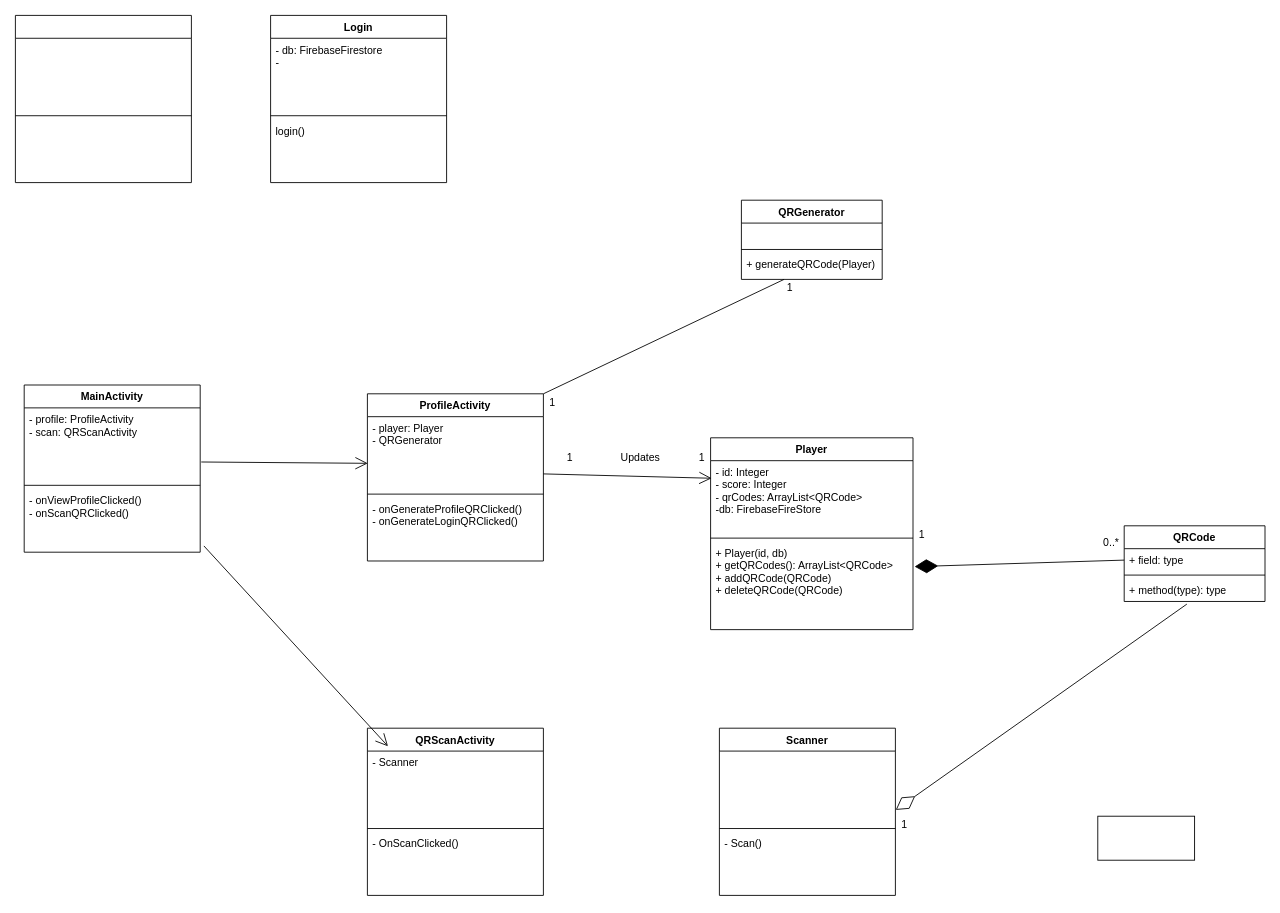
The diagram is 1280 pixels wide and 913 high, and some of its shapes have lost their labels. The centre of each missing label's shape, as x and y in pixels:
"LoginActivity" belongs at (103,99).
"Object" belongs at (1146,837).
